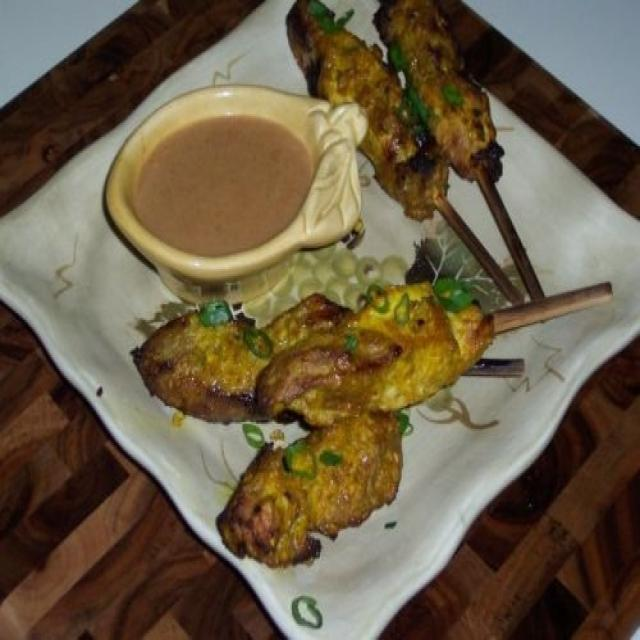牛肉菜式: (45, 16, 613, 615)
